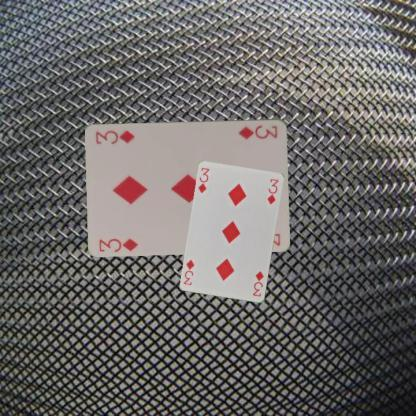3d: (96, 235, 140, 253), (236, 122, 278, 140), (250, 268, 265, 298), (196, 165, 211, 195)
